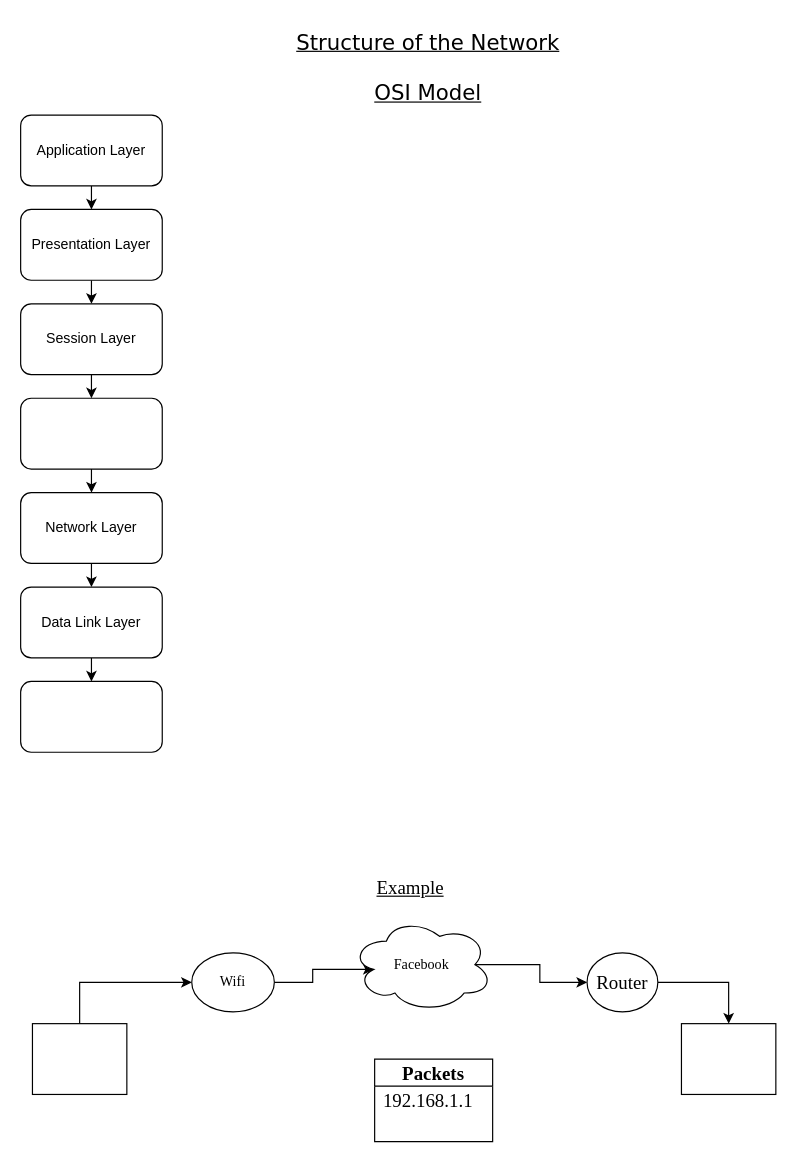
The diagram is 796 pixels wide and 1162 high, and some of its shapes have lost their labels. Here are the shapes that lost their labels. From the top down, the box of each, then its label:
(19, 397, 162, 469): Transport Layer
(19, 680, 162, 752): Physical Layer
(31, 1022, 127, 1094): Comp A
(680, 1022, 776, 1094): Comp B
